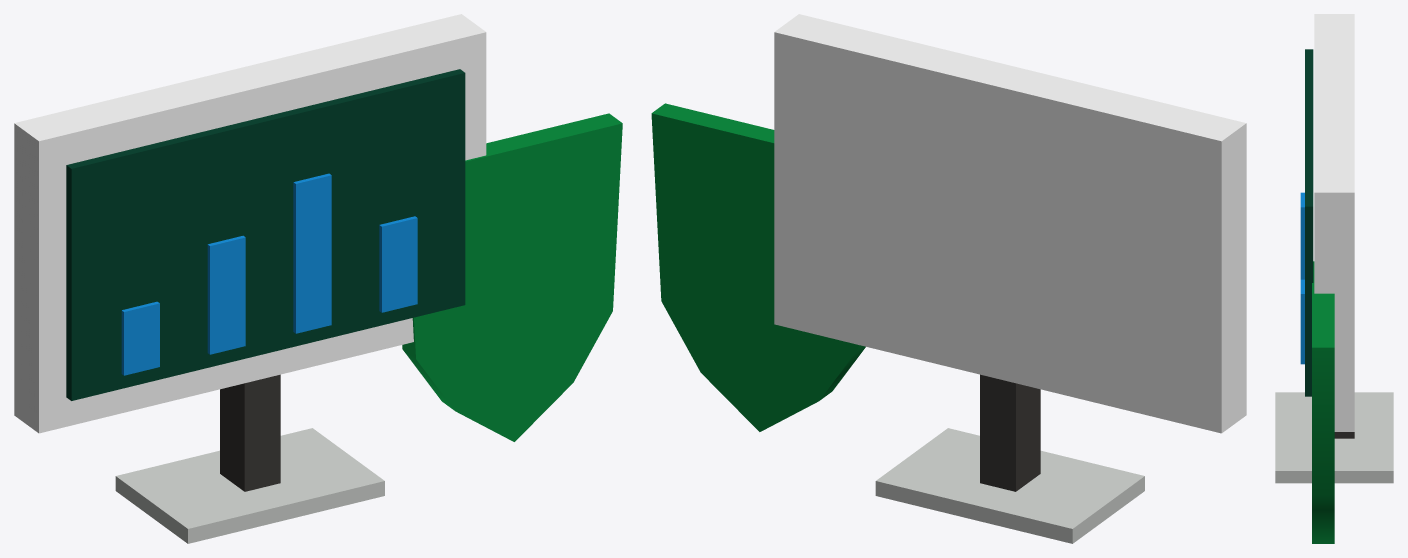
The model's file is D2_intrusion_detection_and_prevention.glb.
The picture shows the model from 3 angles, left to right: view 1: azimuth 30°, elevation 25°; view 2: azimuth 150°, elevation 25°; view 3: azimuth 270°, elevation 25°; orthographic projection. The views are drawn at different scales.
Visible parts, largest first — view 1: instance_darkgreen, instance_white, instance_green, instance_blue, instance_stone, instance_ink; view 2: instance_white, instance_green, instance_stone, instance_ink; view 3: instance_white, instance_stone, instance_green, instance_darkgreen, instance_blue.
Boxes of the visible parts, x1,y1,x2,y2 form: instance_darkgreen: (66, 69, 465, 400); instance_white: (14, 14, 486, 433); instance_green: (402, 113, 622, 441); instance_blue: (121, 173, 417, 375); instance_stone: (115, 428, 384, 543); instance_ink: (220, 374, 280, 491); instance_white: (774, 14, 1246, 433); instance_green: (651, 103, 865, 431); instance_stone: (875, 428, 1144, 543); instance_ink: (980, 374, 1040, 491); instance_white: (1314, 14, 1354, 431); instance_stone: (1275, 392, 1393, 483); instance_green: (1312, 261, 1334, 543); instance_darkgreen: (1305, 49, 1313, 396); instance_blue: (1300, 192, 1304, 364).
Bounding box in the file's own units: 1.63 × 1.11 × 0.35.
